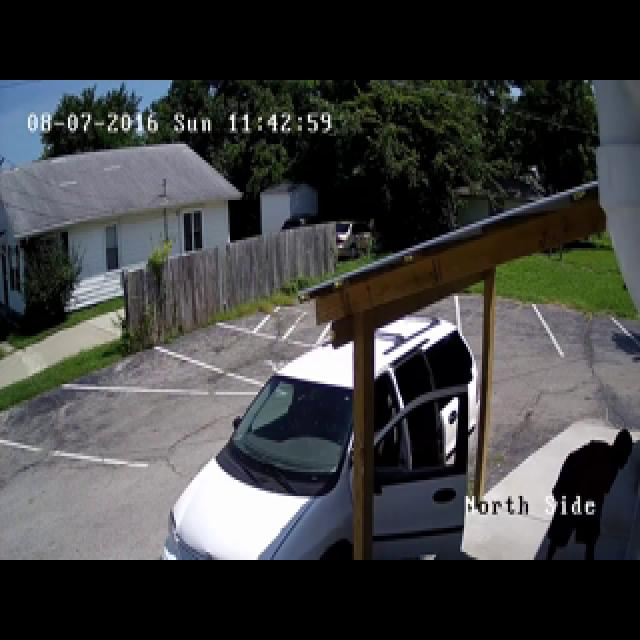arson: (39, 158, 495, 623)
